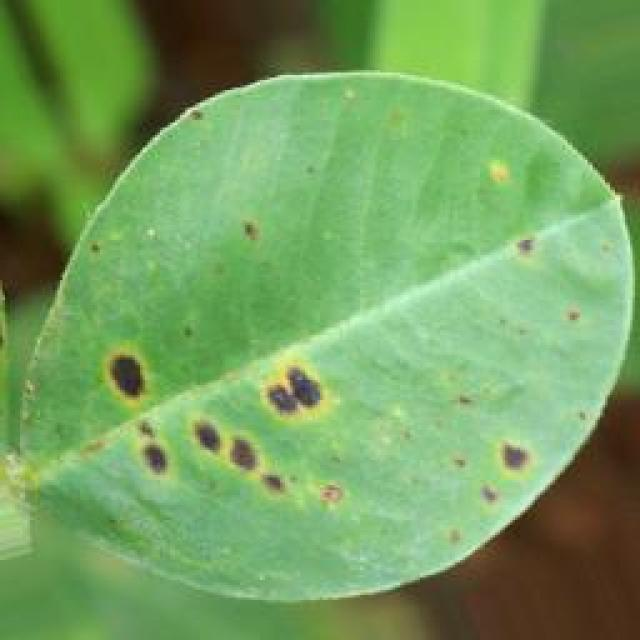Sigatoka: (86, 331, 174, 504), (232, 330, 339, 447), (168, 399, 288, 495), (433, 437, 538, 520), (282, 459, 371, 542), (472, 211, 548, 289), (228, 197, 300, 275), (172, 95, 228, 156), (538, 300, 609, 348), (424, 499, 489, 550), (442, 380, 492, 431), (558, 394, 606, 436)
